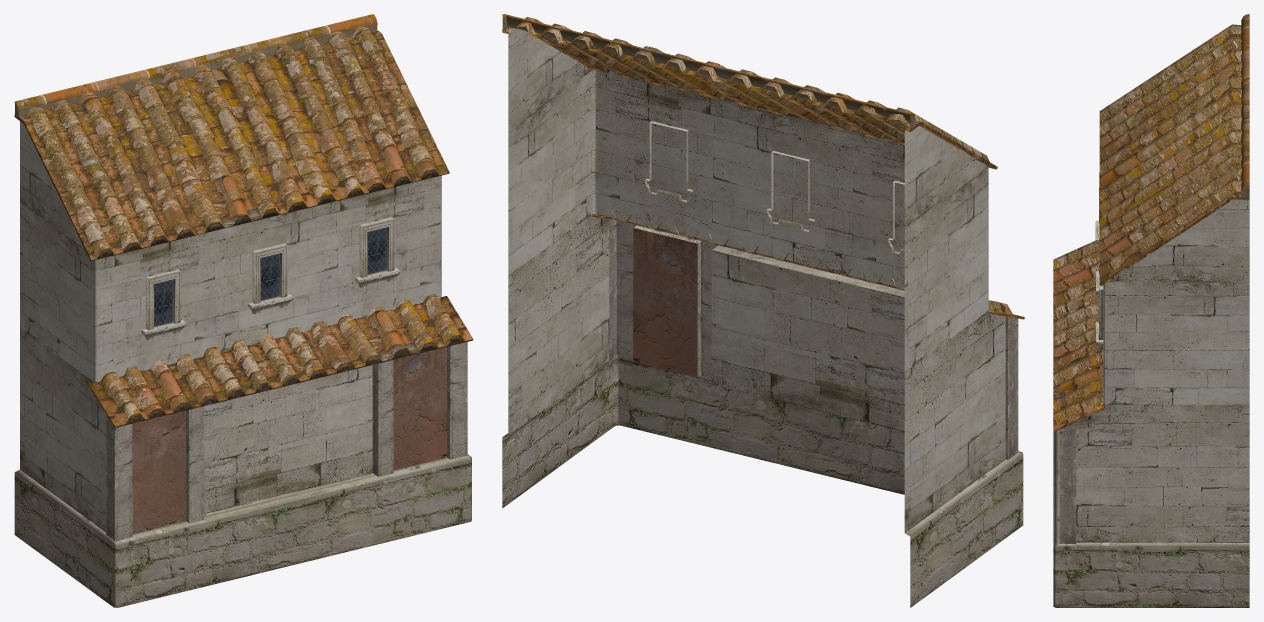
File: Basic11.fbx
The picture shows the model from 3 angles, left to right: view 1: azimuth 30°, elevation 25°; view 2: azimuth 150°, elevation 25°; view 3: azimuth 270°, elevation 25°; orthographic projection. The views are drawn at different scales.
Parts seen in each view (by area): view 1: LV_Campagna_City_CommonSmallBuilding02_SM_CNH; view 2: LV_Campagna_City_CommonSmallBuilding02_SM_CNH; view 3: LV_Campagna_City_CommonSmallBuilding02_SM_CNH.
Part boxes in pixels (left/top/right/bottom): LV_Campagna_City_CommonSmallBuilding02_SM_CNH: left=14, top=14, right=473, bottom=607; LV_Campagna_City_CommonSmallBuilding02_SM_CNH: left=502, top=14, right=1024, bottom=607; LV_Campagna_City_CommonSmallBuilding02_SM_CNH: left=1053, top=14, right=1249, bottom=607.
Bounding box in the file's own units: 1.4 × 1.62 × 0.68.
Materials: 4 (4 with a texture image).
